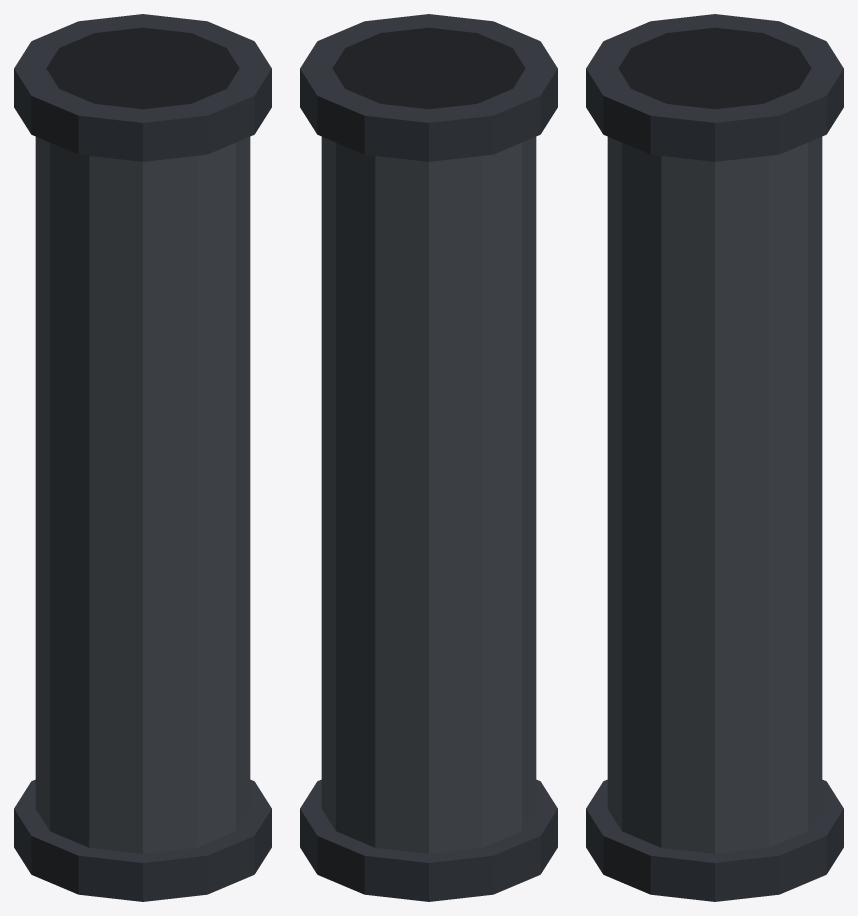
Rendered from Pipe_0.25x1.fbx.
3 views of the same model, side by side, from view 1: azimuth 30°, elevation 25°; view 2: azimuth 150°, elevation 25°; view 3: azimuth 270°, elevation 25° (orthographic).
Visible parts, largest first — view 1: Pipe_0.25x1; view 2: Pipe_0.25x1; view 3: Pipe_0.25x1.
Part boxes in pixels (x1,y1,x2,y2): Pipe_0.25x1: (14,14,271,901); Pipe_0.25x1: (300,14,557,901); Pipe_0.25x1: (586,14,843,901).
Bounding box in the file's own units: 30 × 100 × 30.
